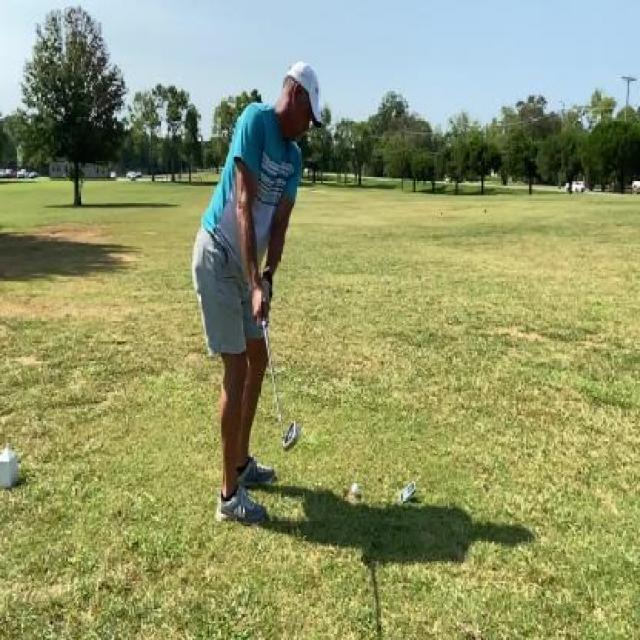club head: (278, 417, 298, 452)
